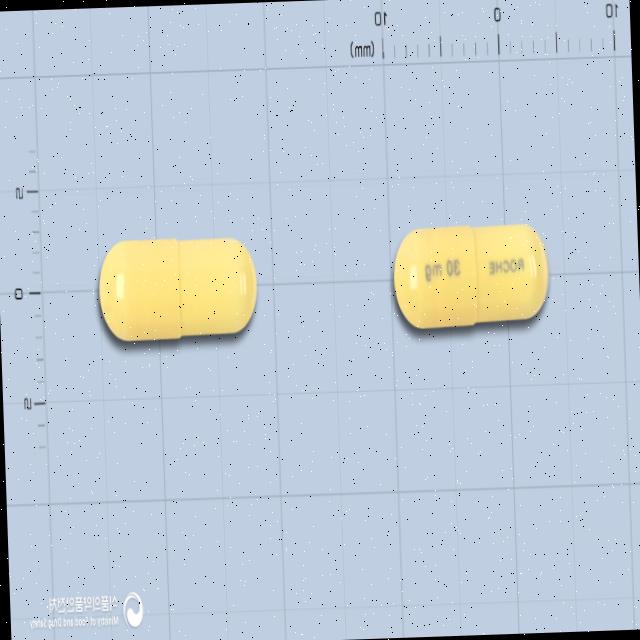Tamiflu Cap: (392, 221, 550, 331)
